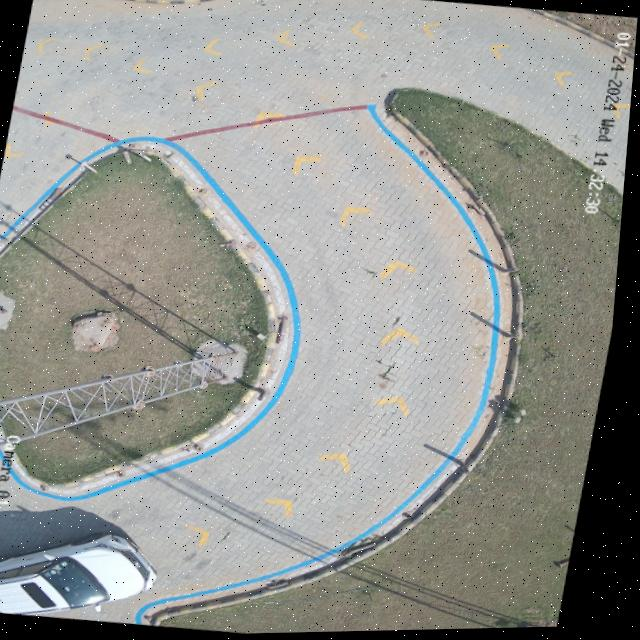car: (0, 533, 166, 615)
